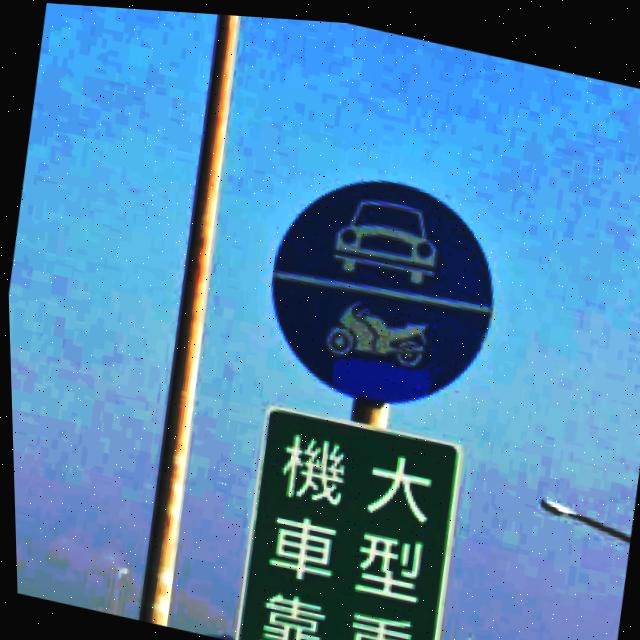carmotorcycle: (268, 176, 494, 399)
